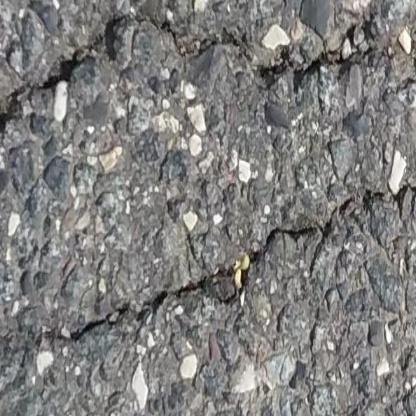Cracks: (0, 178, 416, 384), (0, 3, 416, 151)
